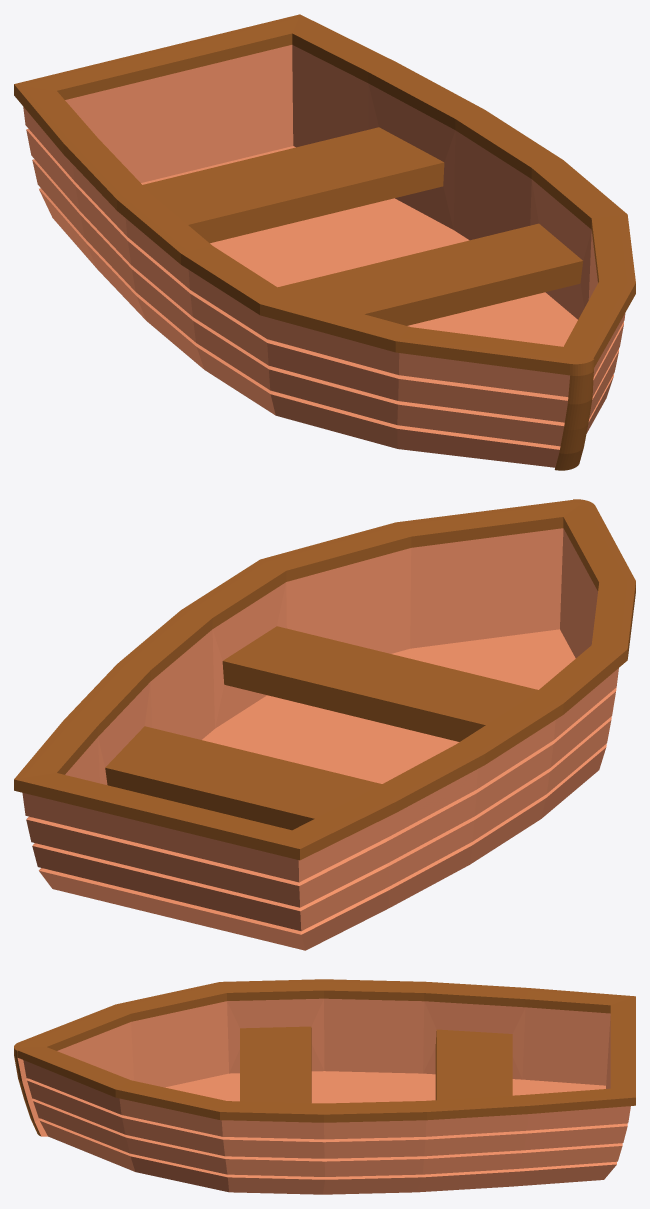
File: boat.fbx
3 views of the same model, one above another, from view 1: azimuth 30°, elevation 25°; view 2: azimuth 150°, elevation 25°; view 3: azimuth 270°, elevation 25° (orthographic). The views are drawn at different scales.
Parts seen in each view (by area): view 1: Cube, Cube.001; view 2: Cube, Cube.001; view 3: Cube, Cube.001.
Part boxes in pixels (box(x1,y1,x2,y2)): Cube: box(23, 45, 625, 470); Cube.001: box(14, 14, 635, 375); Cube: box(22, 528, 635, 950); Cube.001: box(14, 499, 635, 860); Cube: box(14, 998, 630, 1194); Cube.001: box(14, 979, 635, 1122).
Bounding box in the file's own units: 119 × 36.2 × 231.
